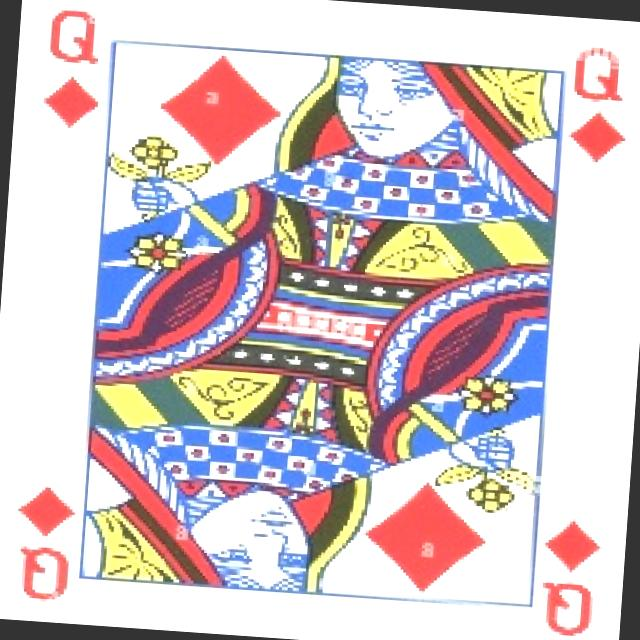Diamond: (156, 50, 284, 168), (360, 478, 488, 594), (540, 516, 604, 574), (566, 108, 628, 164), (16, 484, 78, 537), (42, 74, 100, 129)
Queen: (538, 578, 595, 636), (47, 7, 102, 65), (15, 544, 70, 602), (572, 46, 625, 103)
